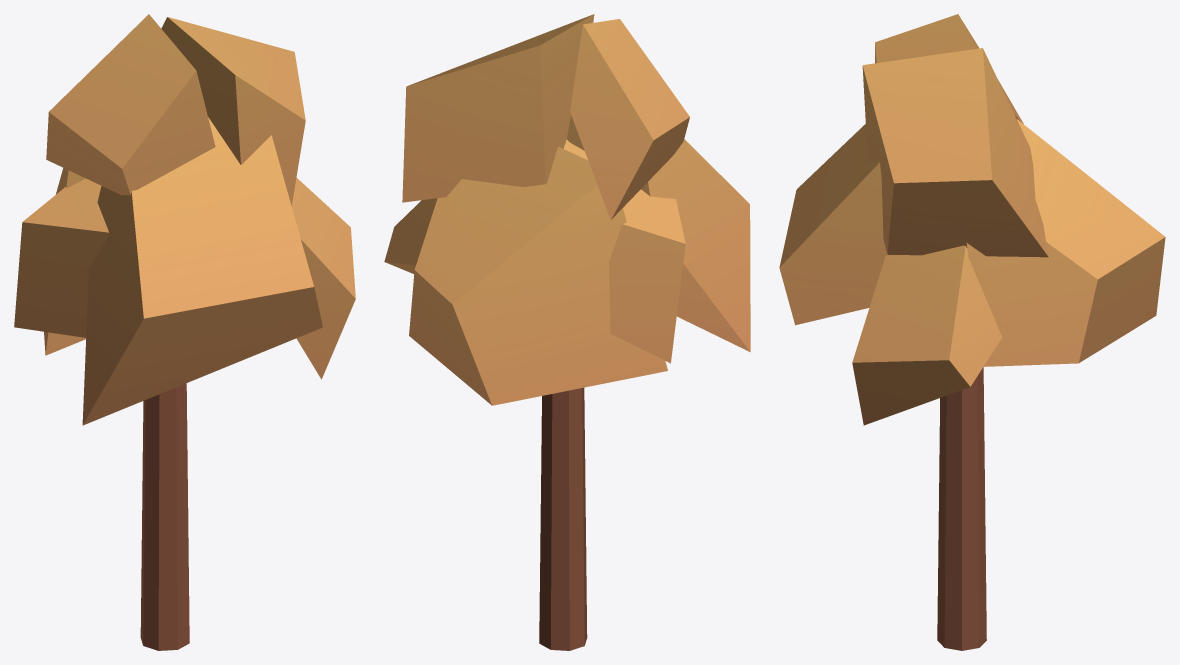
The model's file is Tree_41_gradient_yellow.fbx.
The picture shows the model from 3 angles, left to right: view 1: azimuth 30°, elevation 25°; view 2: azimuth 150°, elevation 25°; view 3: azimuth 270°, elevation 25°; orthographic projection. The views are drawn at different scales.
Visible parts, largest first — view 1: Tree_41_gradient_yellow; view 2: Tree_41_gradient_yellow; view 3: Tree_41_gradient_yellow.
Boxes of the visible parts, x1=… form: Tree_41_gradient_yellow: x1=14, y1=14, x2=355, y2=650; Tree_41_gradient_yellow: x1=384, y1=14, x2=750, y2=650; Tree_41_gradient_yellow: x1=779, y1=14, x2=1165, y2=650.
Size of the model in its own units: 120 by 229 by 130.
